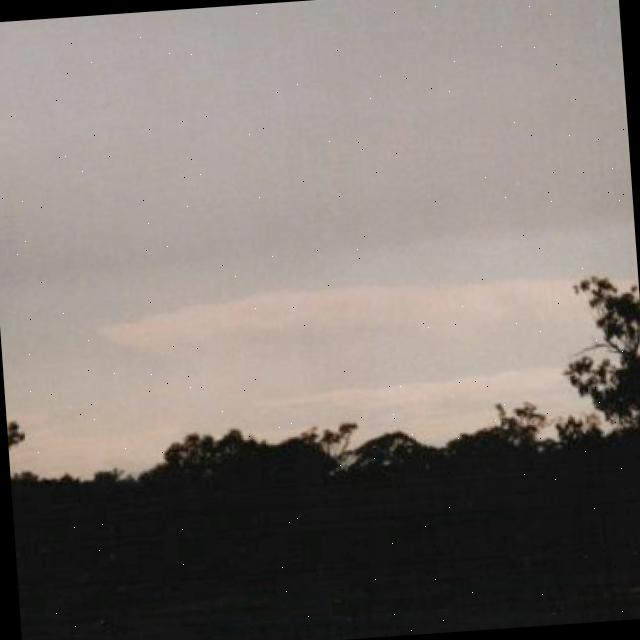Ns: (1, 1, 640, 372)
